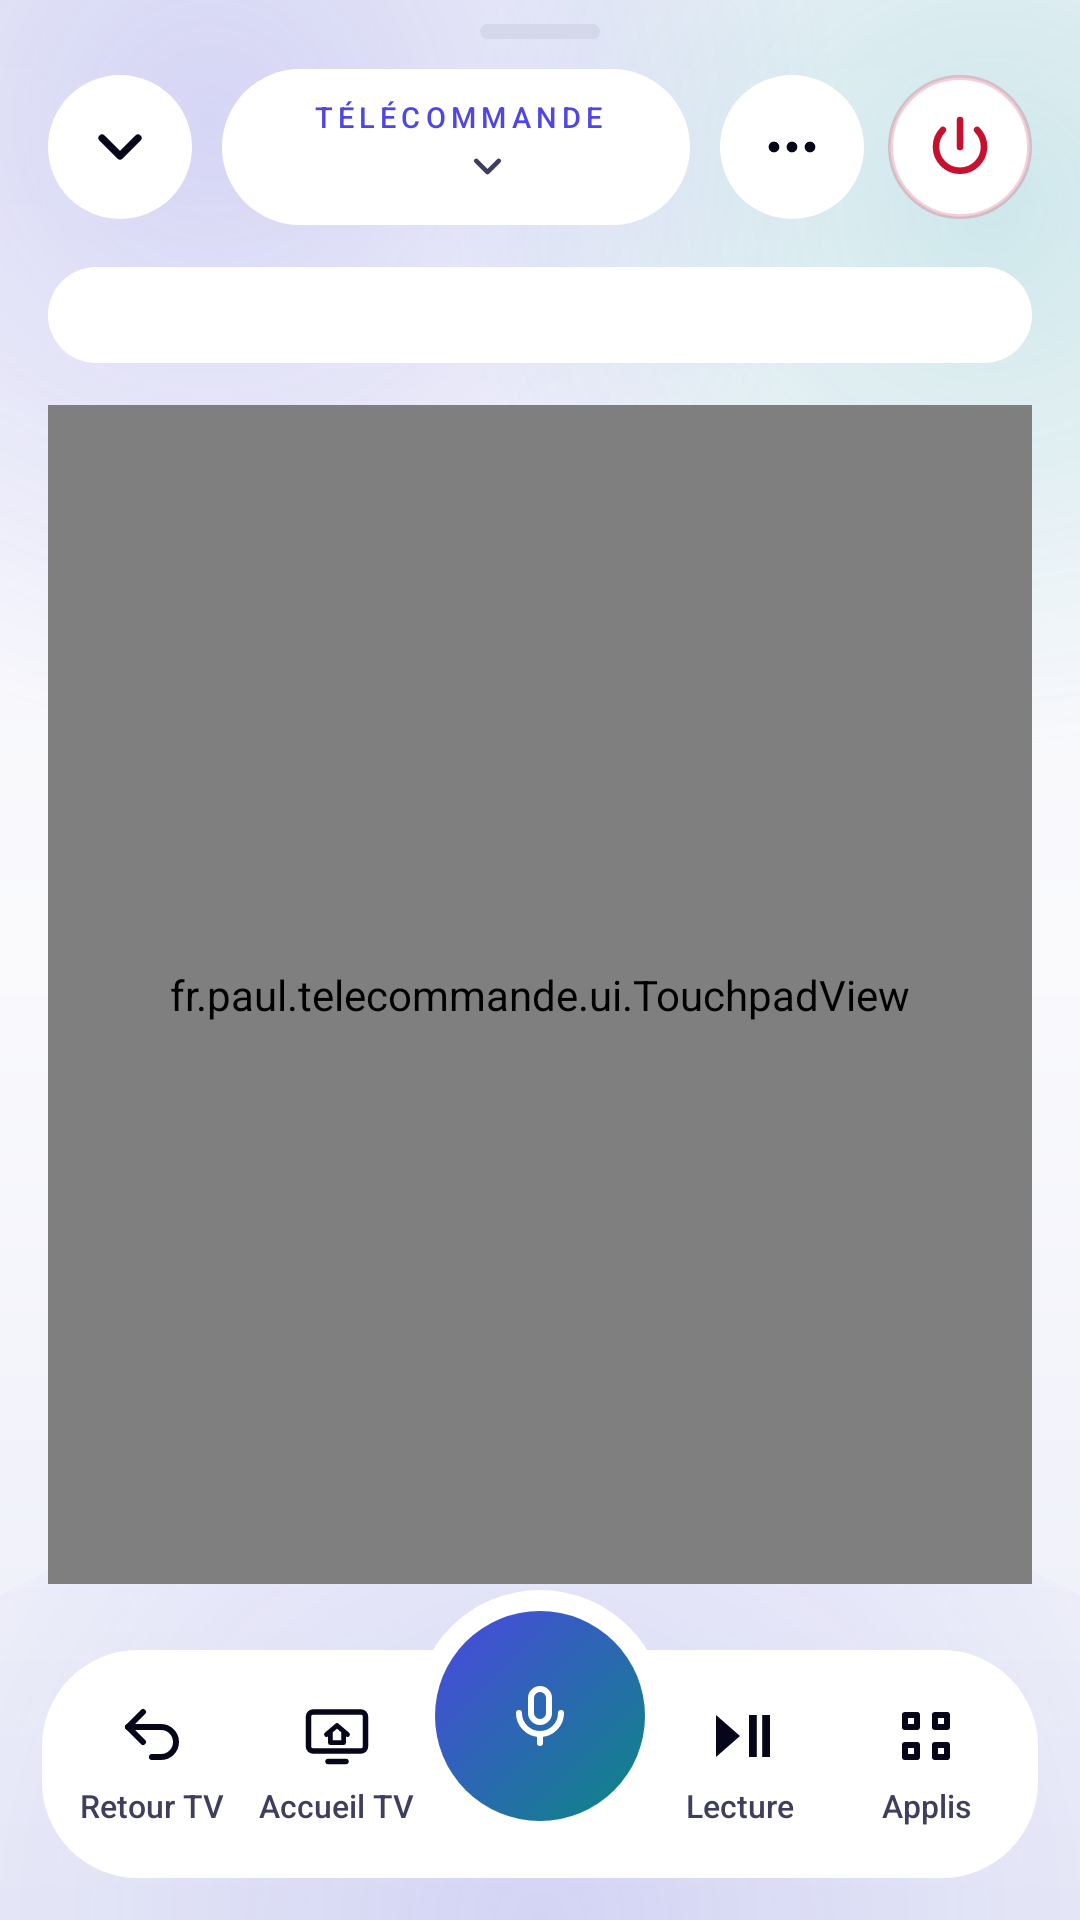

Named icons in this screenshot (1080px×1920px) and their bounding boxes, [x1=x1, y1=y1, x2=x2, y2=y2]:
more: [x1=720, y1=75, x2=864, y2=219]
power: [x1=888, y1=75, x2=1032, y2=219]
Recherche vocale (maintenir pour parler): [x1=435, y1=1611, x2=645, y2=1821]
